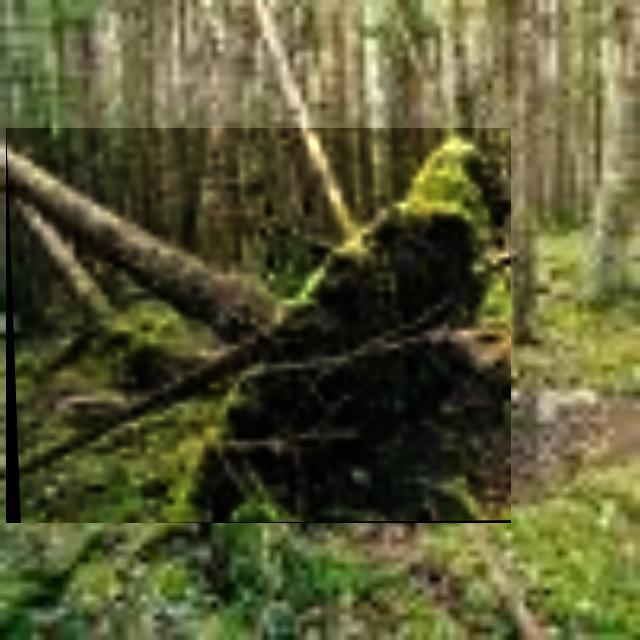Fallen Tree: (6, 128, 512, 524)
